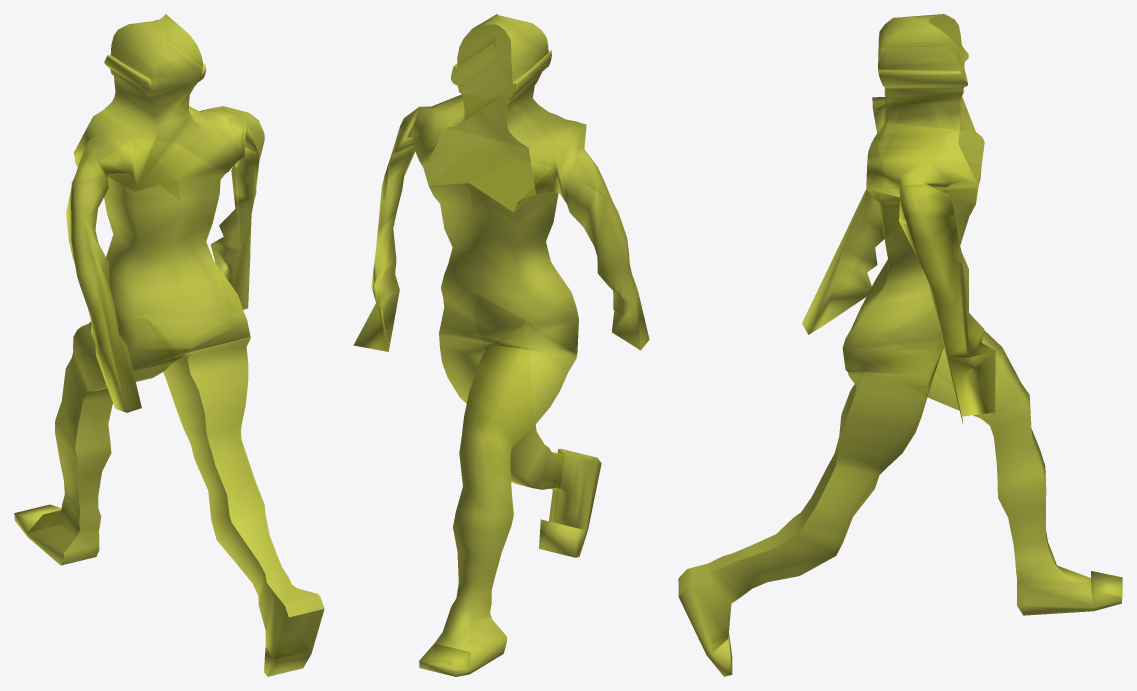
File: woman_000028.obj
3 renders of one model, left to right at view 1: azimuth 30°, elevation 25°; view 2: azimuth 150°, elevation 25°; view 3: azimuth 270°, elevation 25°, orthographic. The views are drawn at different scales.
Visible parts, largest first — view 1: Cube_Cube.001; view 2: Cube_Cube.001; view 3: Cube_Cube.001.
Boxes of the visible parts, x1,y1,x2,y2 form: Cube_Cube.001: (14, 14, 324, 676); Cube_Cube.001: (353, 14, 649, 676); Cube_Cube.001: (678, 14, 1122, 676).
Size of the model in its own units: 3.62 by 9.73 by 6.2.
